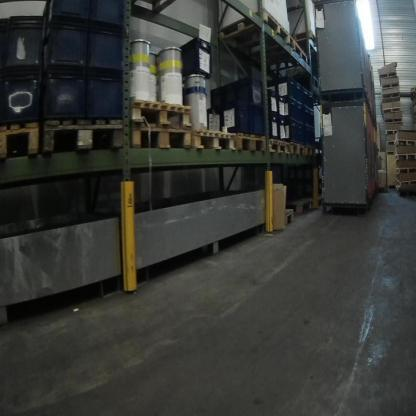pallets: (0, 109, 319, 159), (375, 56, 416, 198), (218, 8, 311, 61)
